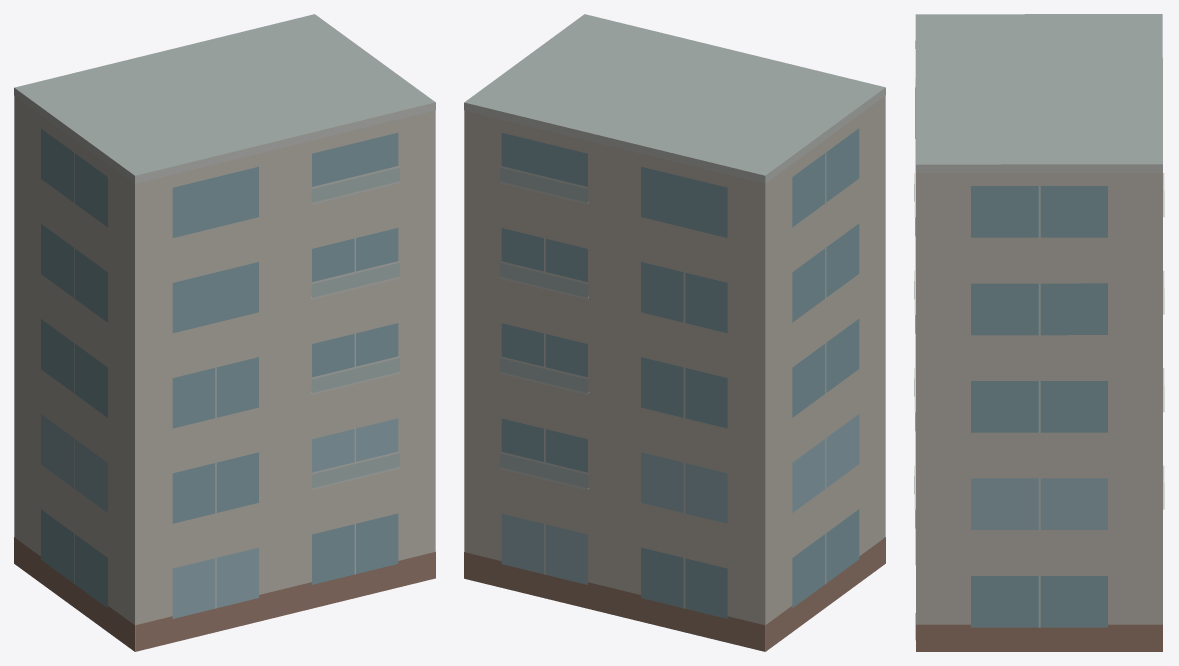
Rendered from survey-upis-32724910.glb.
3 views of the same model, side by side, from view 1: azimuth 30°, elevation 25°; view 2: azimuth 150°, elevation 25°; view 3: azimuth 270°, elevation 25° (orthographic). The views are drawn at different scales.
Visible parts, largest first — view 1: survey-upis-32724910.tmp; view 2: survey-upis-32724910.tmp; view 3: survey-upis-32724910.tmp.
Boxes of the visible parts, <box> form: survey-upis-32724910.tmp: <box>14,14,435,651</box>; survey-upis-32724910.tmp: <box>464,14,885,651</box>; survey-upis-32724910.tmp: <box>914,14,1164,651</box>.
Bounding box in the file's own units: 9.61 × 14.5 × 6.75.
